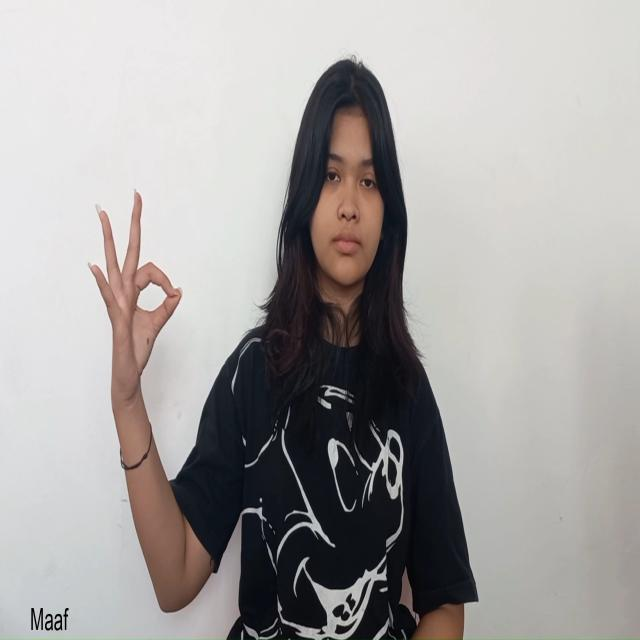Maaf -BISINDO-: (85, 185, 184, 419)
